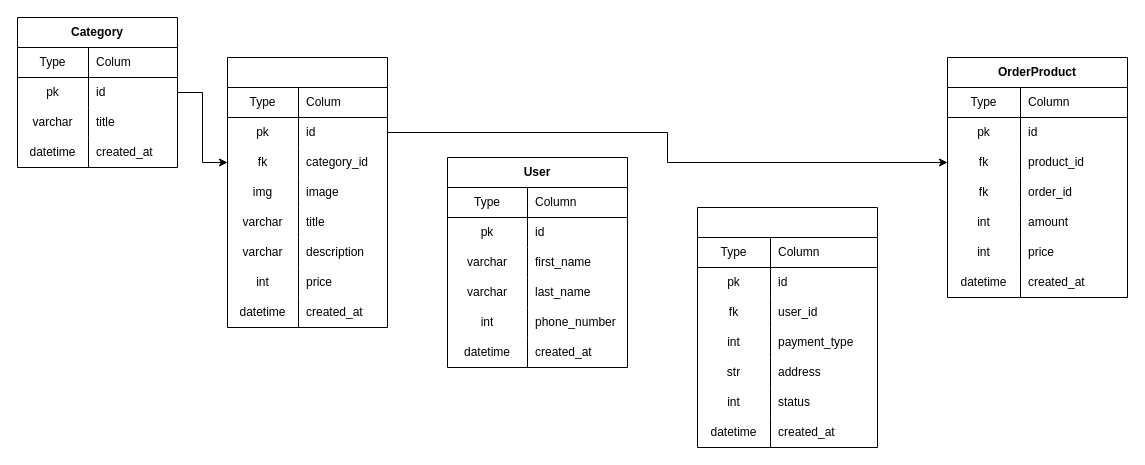
This 1145x465 diagram has some shape labels left out. The shapes that lost their labels are listed below. From the top down, each one's box as (x1, y1, x2, y2) in pixels, then its label:
(226, 56, 388, 328): Product
(696, 206, 878, 448): Order
